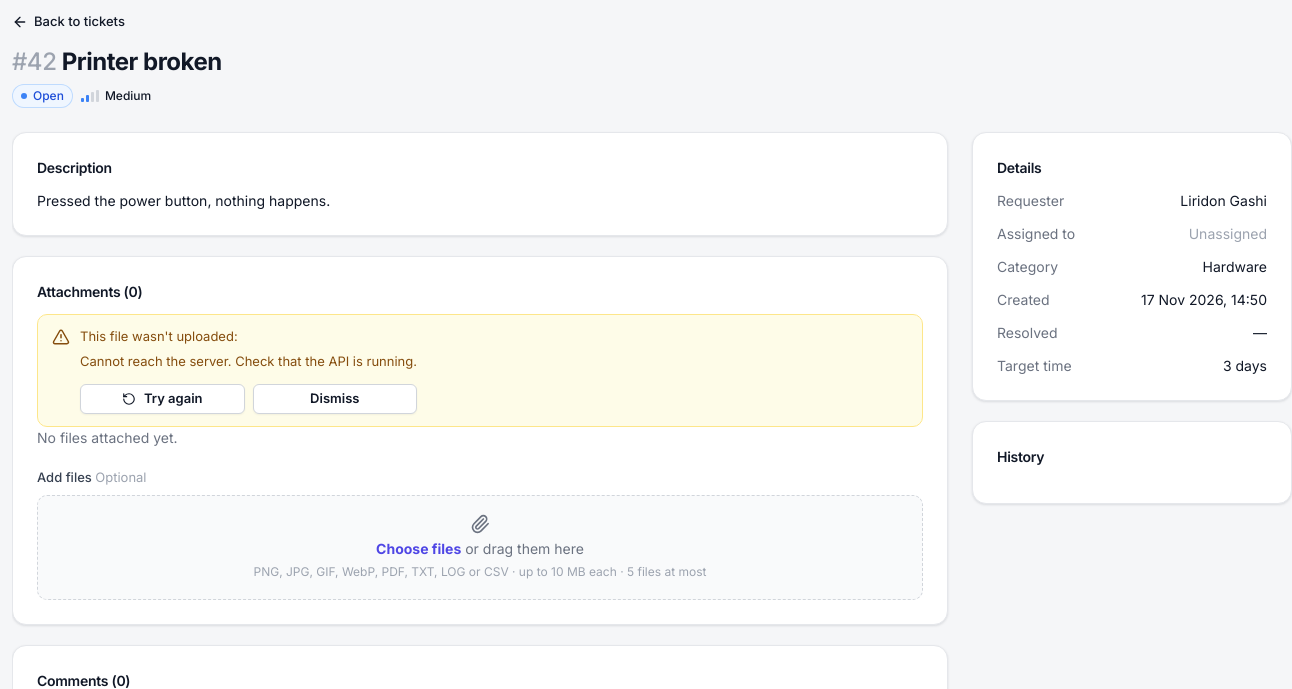
Ticket attachments › files that failed on New ticket are shown with "Try again", which uploads them; the hand-over is then forgotten
Expected: the message shows "This file wasn't uploaded:", [80, 328, 238, 344]
Expected: the message shows "Cannot reach the server.", [80, 353, 417, 369]
What coordinates should you click on to do the following:
click the button "Try again"
I would click on:
 (162, 398)
Its box is [80, 384, 244, 414].
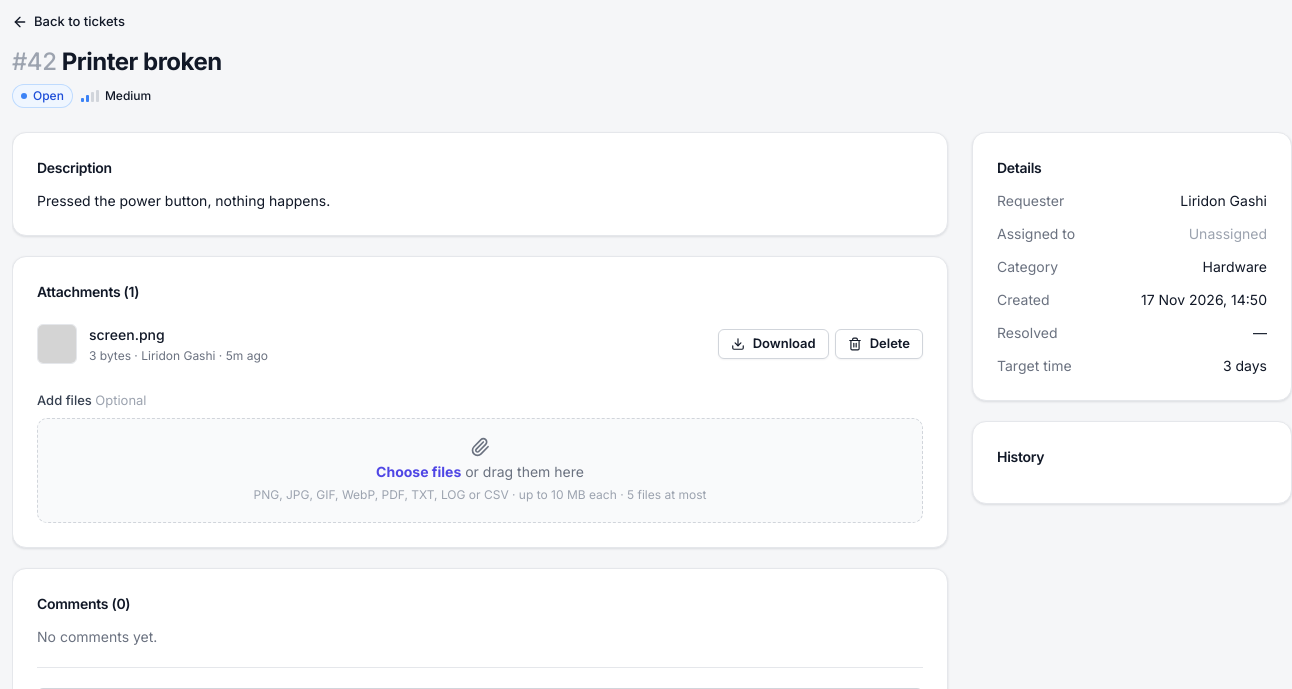
Expected: the heading "Attachments (1)" is shown, [37, 282, 139, 300]
Expected: the message is gone
